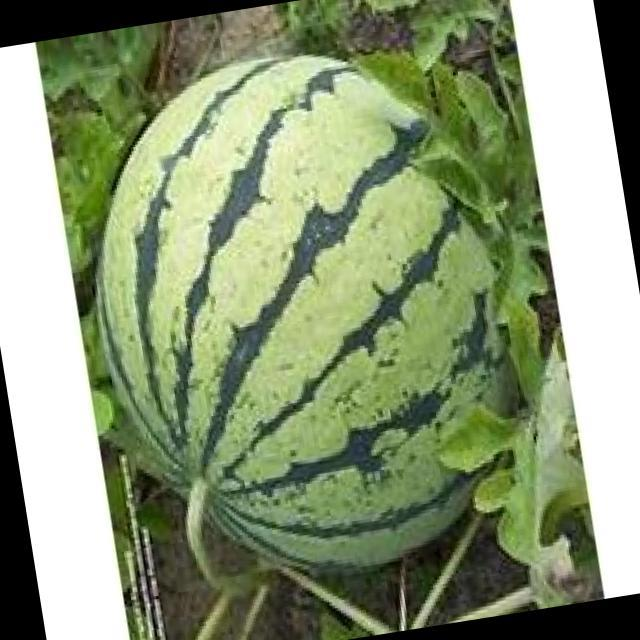watermelon: (98, 57, 496, 568)
